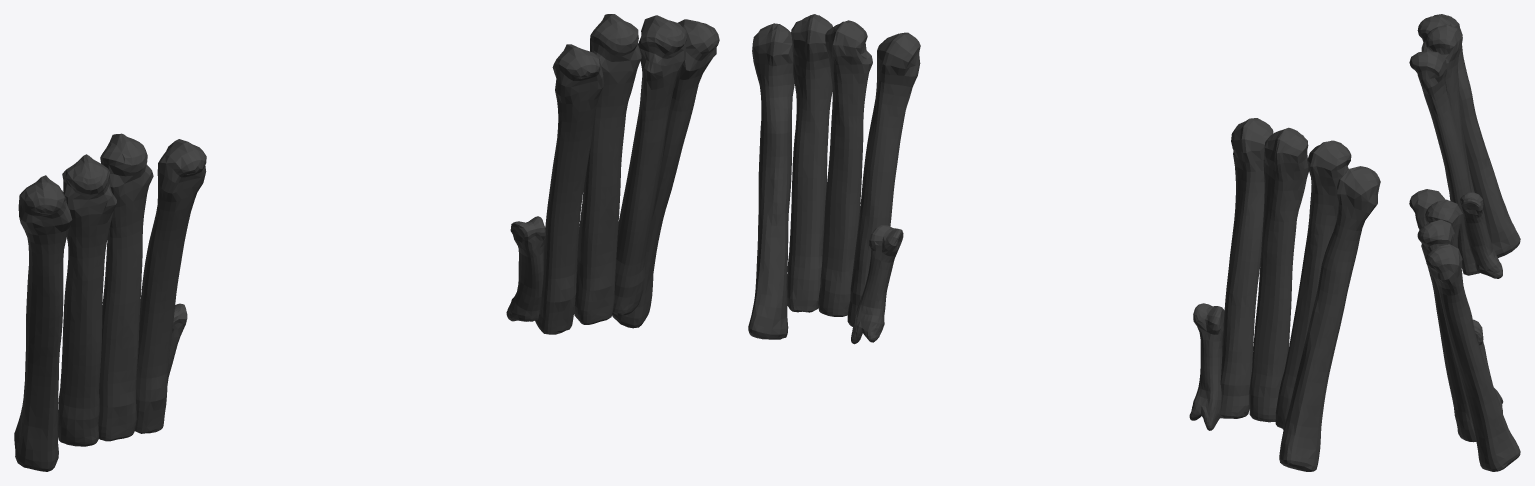
Rendered from Metacarpals_1.glb.
3 renders of one model, left to right at view 1: azimuth 30°, elevation 25°; view 2: azimuth 150°, elevation 25°; view 3: azimuth 270°, elevation 25°, orthographic. The views are drawn at different scales.
Parts seen in each view (by area): view 1: Metacarpals_1; view 2: Metacarpals_1; view 3: Metacarpals_1.
Part boxes in pixels (x1,y1,x2,y2): Metacarpals_1: (14, 14, 719, 471); Metacarpals_1: (748, 14, 1380, 471); Metacarpals_1: (1409, 14, 1520, 471).
Bounding box in the file's own units: 0.00441 × 0.00209 × 0.000838.
Materials: 1 (1 with a texture image).
